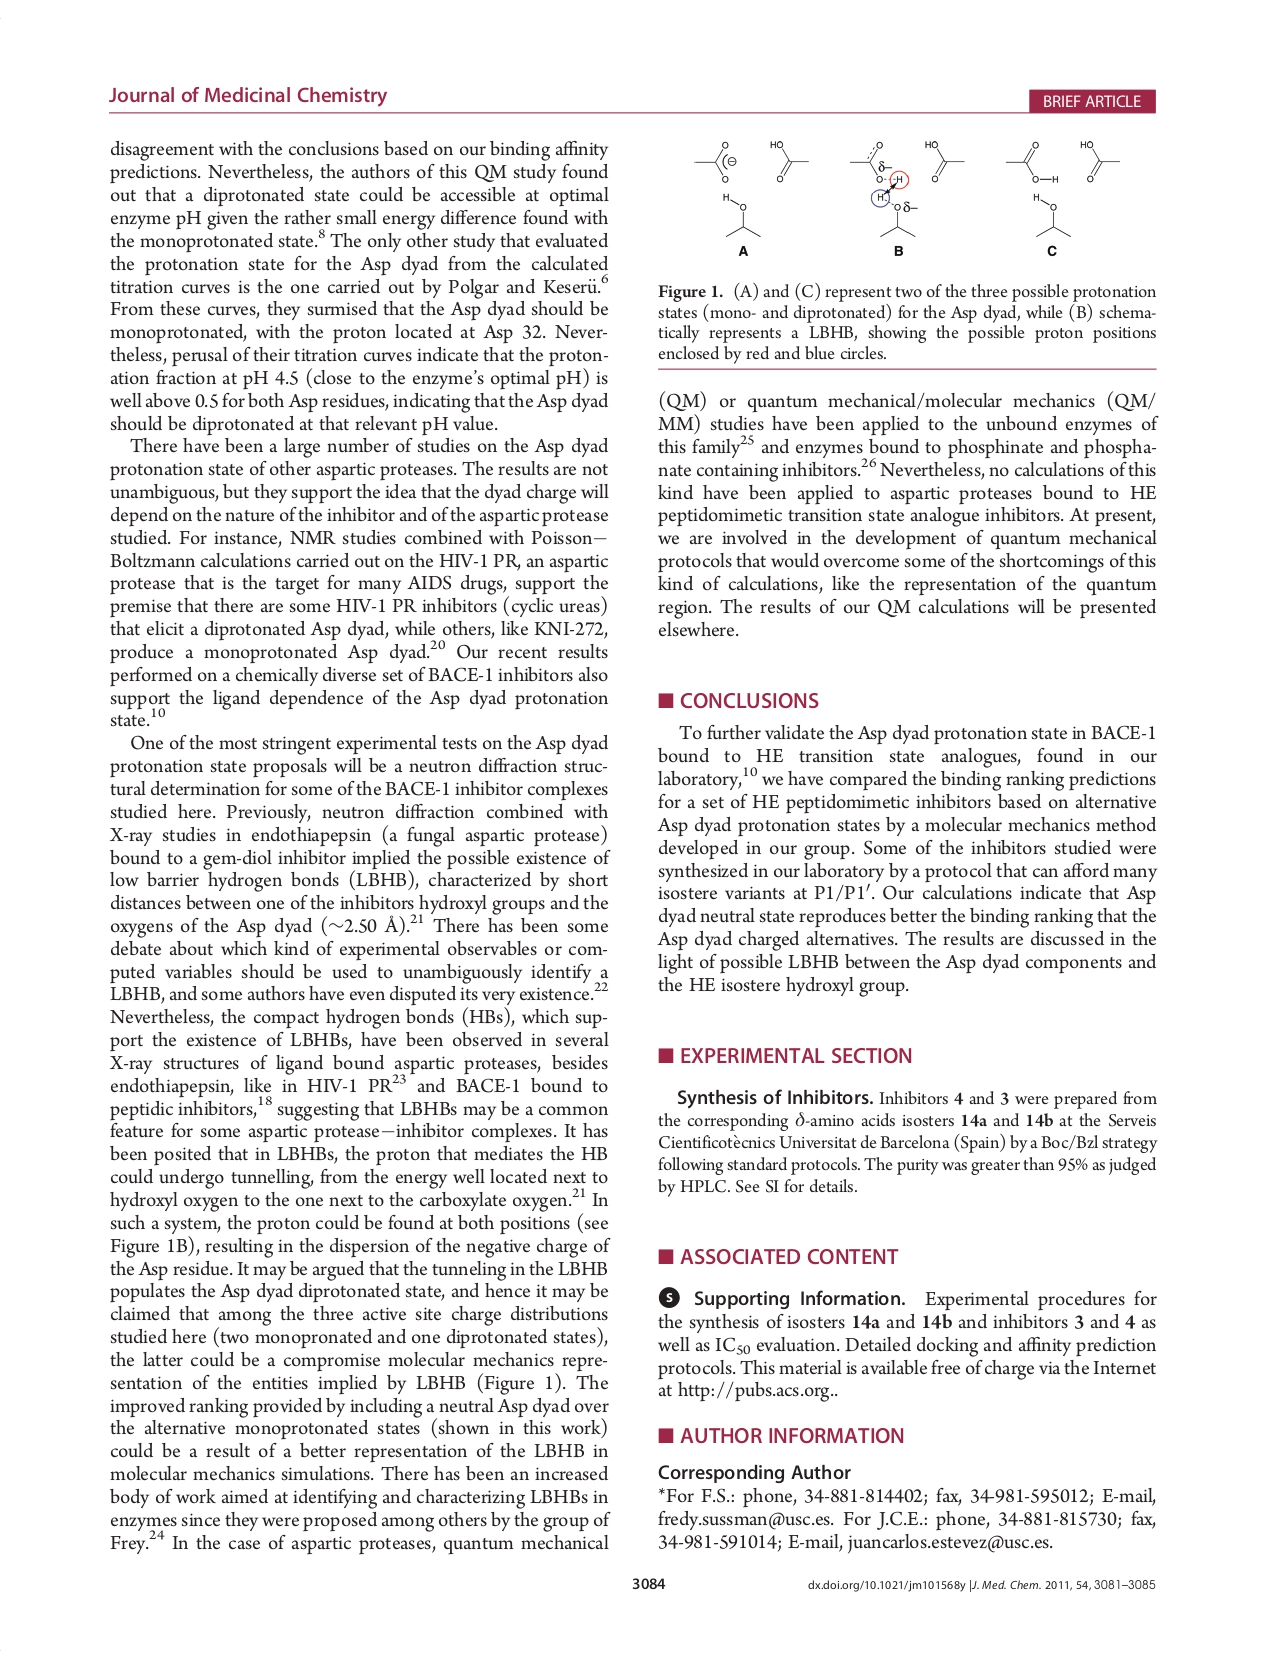exist_molecular: (1001, 137, 1063, 188), (755, 134, 813, 186), (867, 188, 922, 238), (689, 137, 739, 190), (847, 140, 906, 185), (918, 136, 968, 188), (713, 190, 762, 242), (1024, 190, 1076, 239), (1080, 138, 1121, 186)
